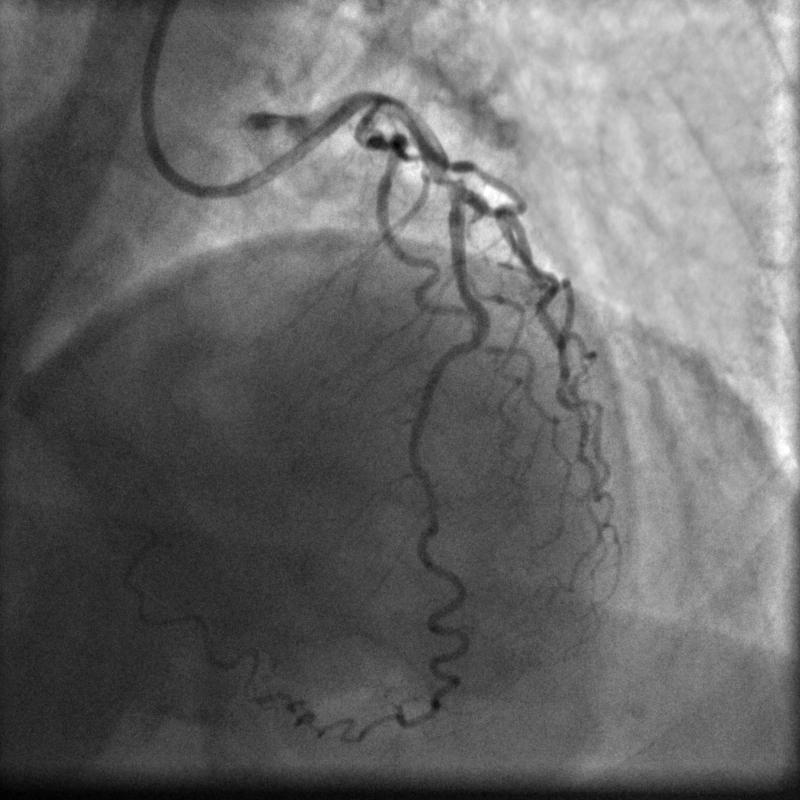Stenosis: (428, 170, 459, 187)
